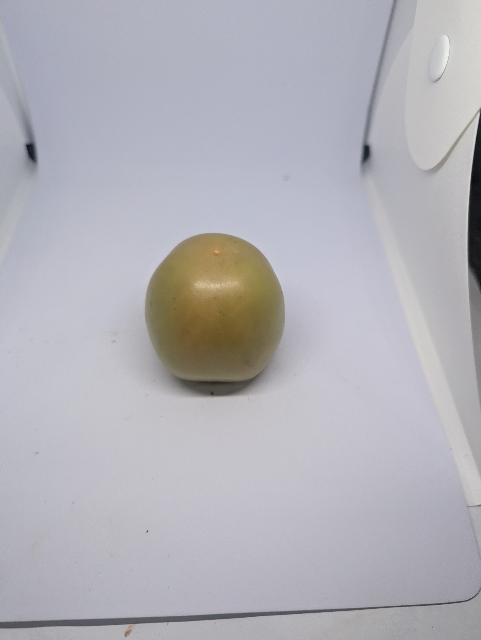breaker: (146, 234, 285, 382)
